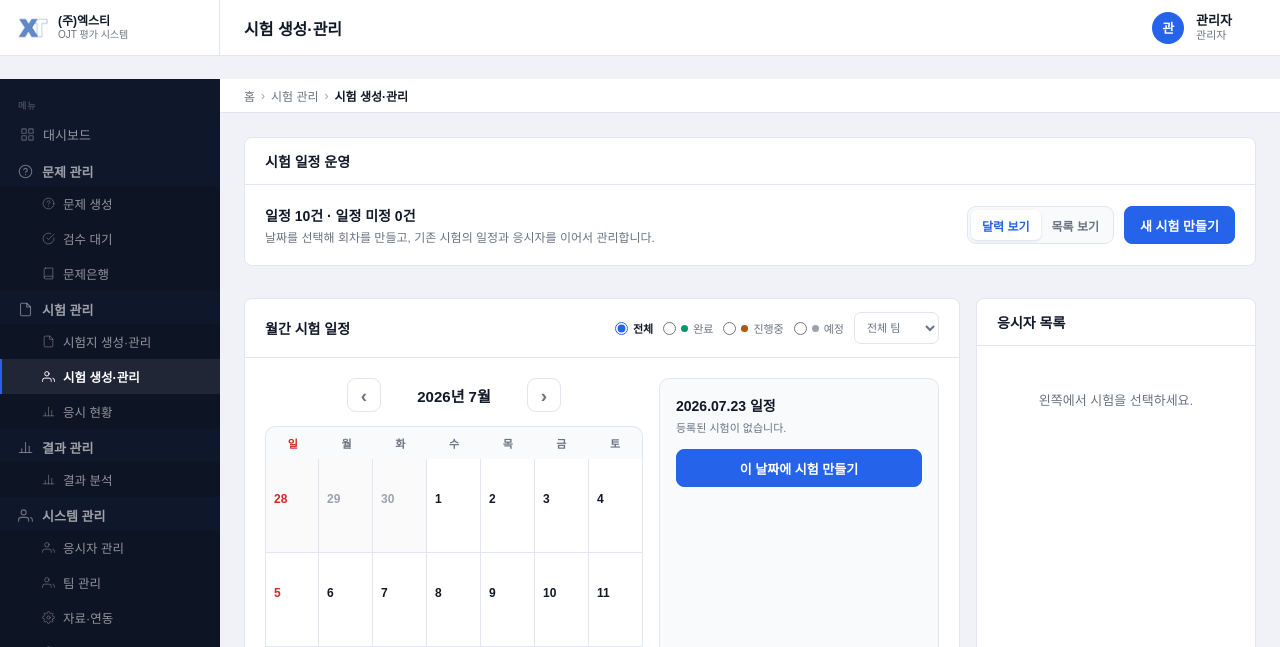
Test: routed latest-main exam management › never renders or requests a Sheets row with a blank exam_id (orphaned "ghost" exam)
Expected: the text "시험 일정 운영" is shown, top-left (265, 151), bottom-right (350, 171)
Click the button "목록 보기" at (1075, 225), box top-left (1040, 210), bottom-right (1110, 240)
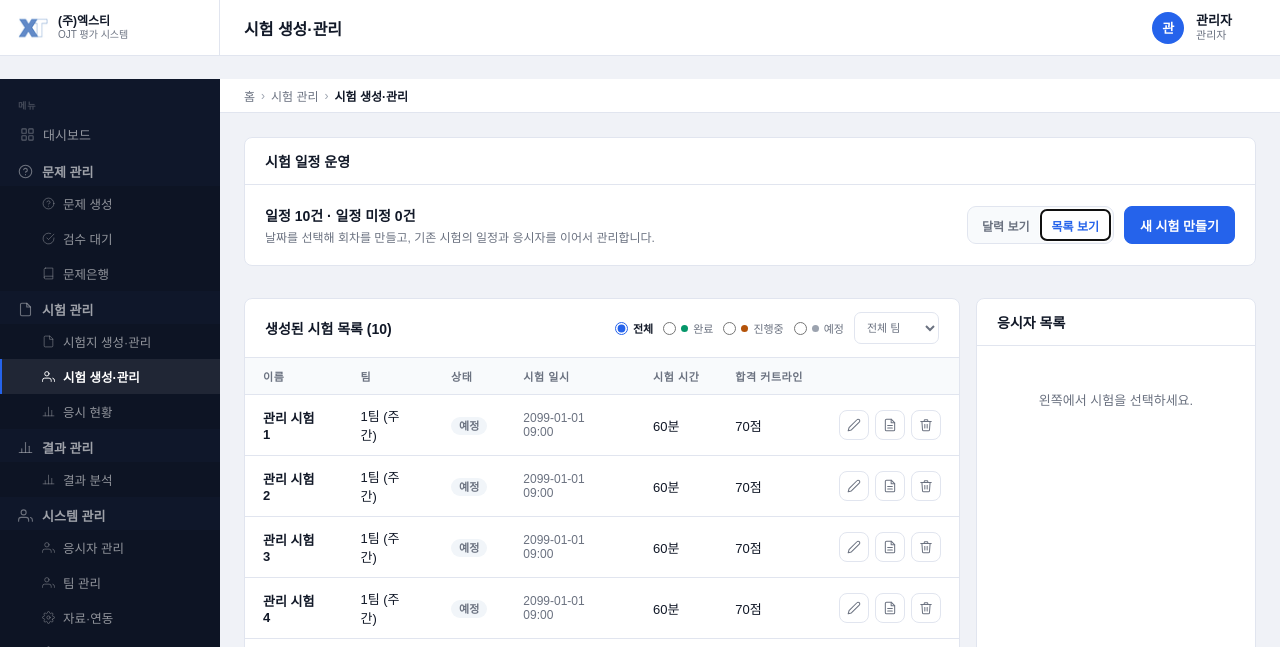
Expected: the text "관리 시험 1" is shown, top-left (245, 394), bottom-right (342, 456)
